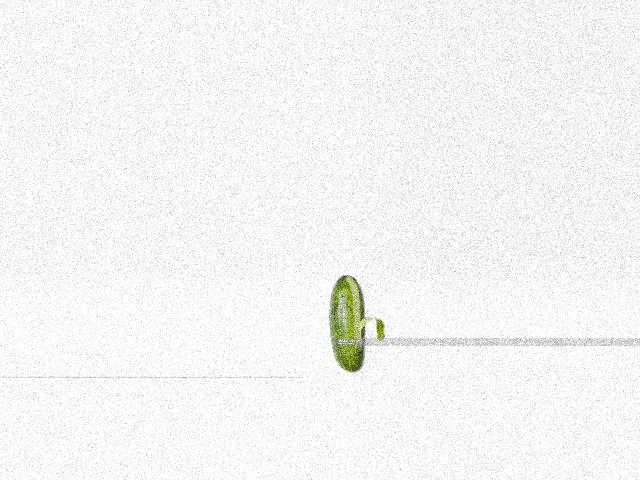cucumber: (329, 275, 366, 373)
